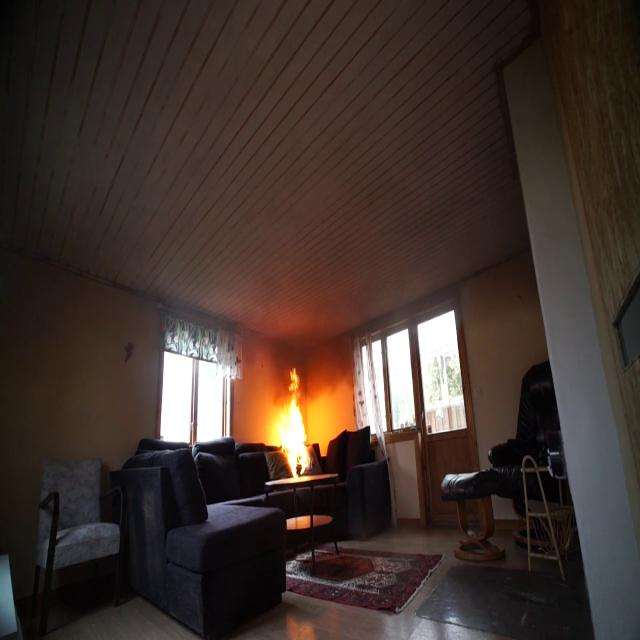fire: (272, 362, 320, 485)
